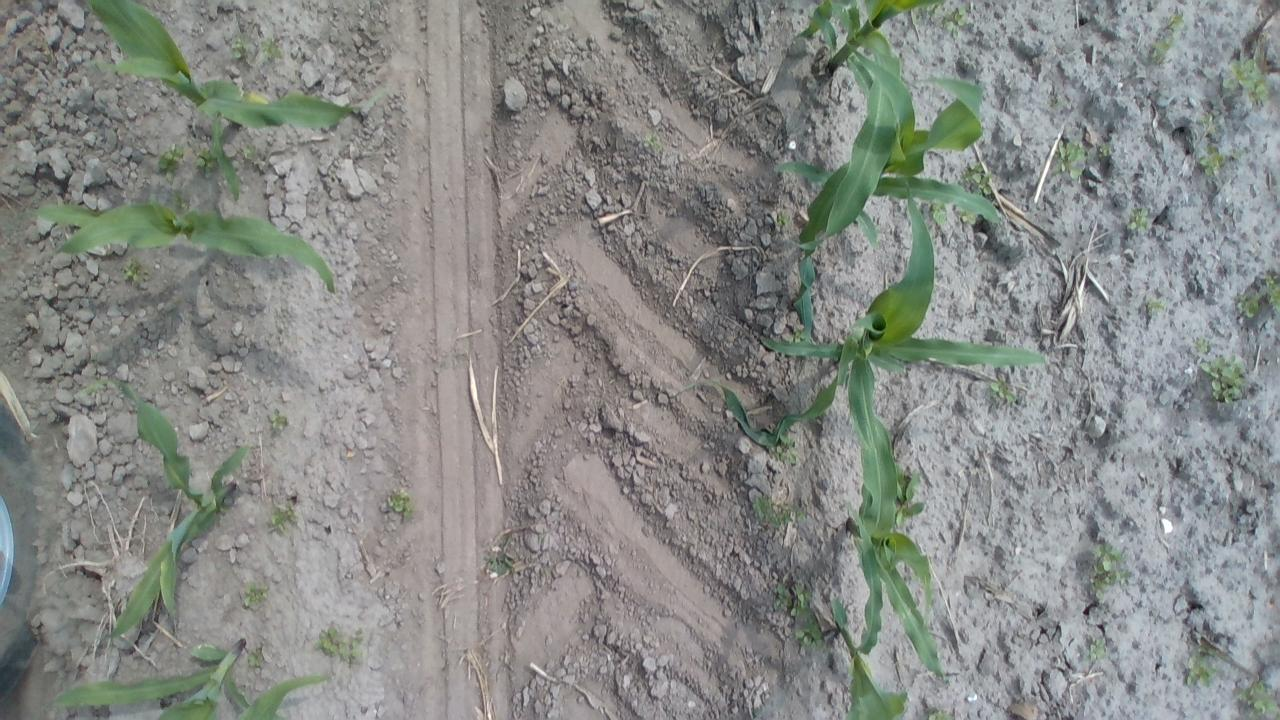Maize: (684, 170, 1052, 450), (779, 45, 1010, 361), (78, 0, 398, 202), (85, 367, 251, 650), (848, 354, 962, 680), (12, 198, 340, 298), (38, 637, 326, 719), (792, 0, 938, 152), (832, 496, 908, 718), (244, 672, 336, 720)
Weeds: (1088, 540, 1138, 604), (1200, 352, 1250, 407), (1219, 56, 1271, 108), (890, 464, 926, 531), (750, 494, 810, 532), (1232, 673, 1278, 718), (922, 2, 973, 42), (1180, 640, 1222, 688), (1150, 8, 1185, 64), (482, 530, 516, 580), (1052, 136, 1088, 182), (378, 483, 419, 522), (959, 158, 996, 200), (774, 584, 815, 618), (266, 498, 302, 535), (1235, 284, 1268, 322), (155, 144, 183, 185), (1194, 142, 1224, 180), (238, 576, 270, 610), (120, 256, 154, 288), (792, 620, 826, 652), (1083, 636, 1110, 671), (772, 432, 801, 464), (195, 143, 222, 177), (988, 375, 1019, 404), (1124, 205, 1152, 236), (1258, 268, 1276, 316), (316, 626, 342, 658), (1197, 106, 1226, 134), (338, 634, 360, 662), (240, 140, 264, 165), (169, 188, 194, 210), (642, 127, 662, 154), (929, 199, 948, 226), (260, 36, 282, 58), (232, 34, 248, 62), (1192, 333, 1212, 354), (926, 707, 956, 720), (270, 411, 288, 432), (774, 207, 790, 229), (959, 210, 978, 228), (786, 326, 804, 344), (1098, 140, 1114, 160), (1146, 298, 1166, 314), (247, 650, 264, 667), (1229, 146, 1245, 162), (1053, 99, 1059, 107)
